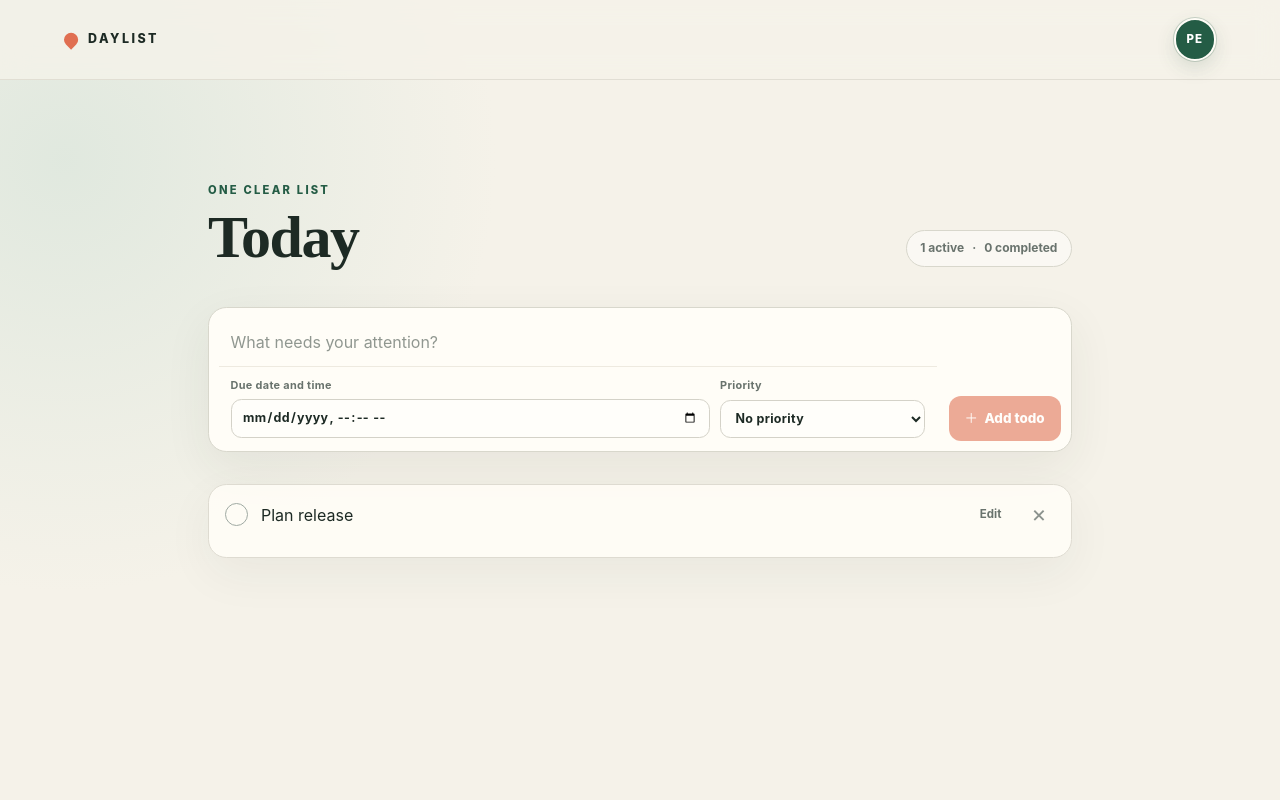
it: App › keeps the inline editor open with server field errors
The image size is (1280, 800).
Click the button with aria-label "Edit Plan release" at (991, 515), box [971,499,1010,530]
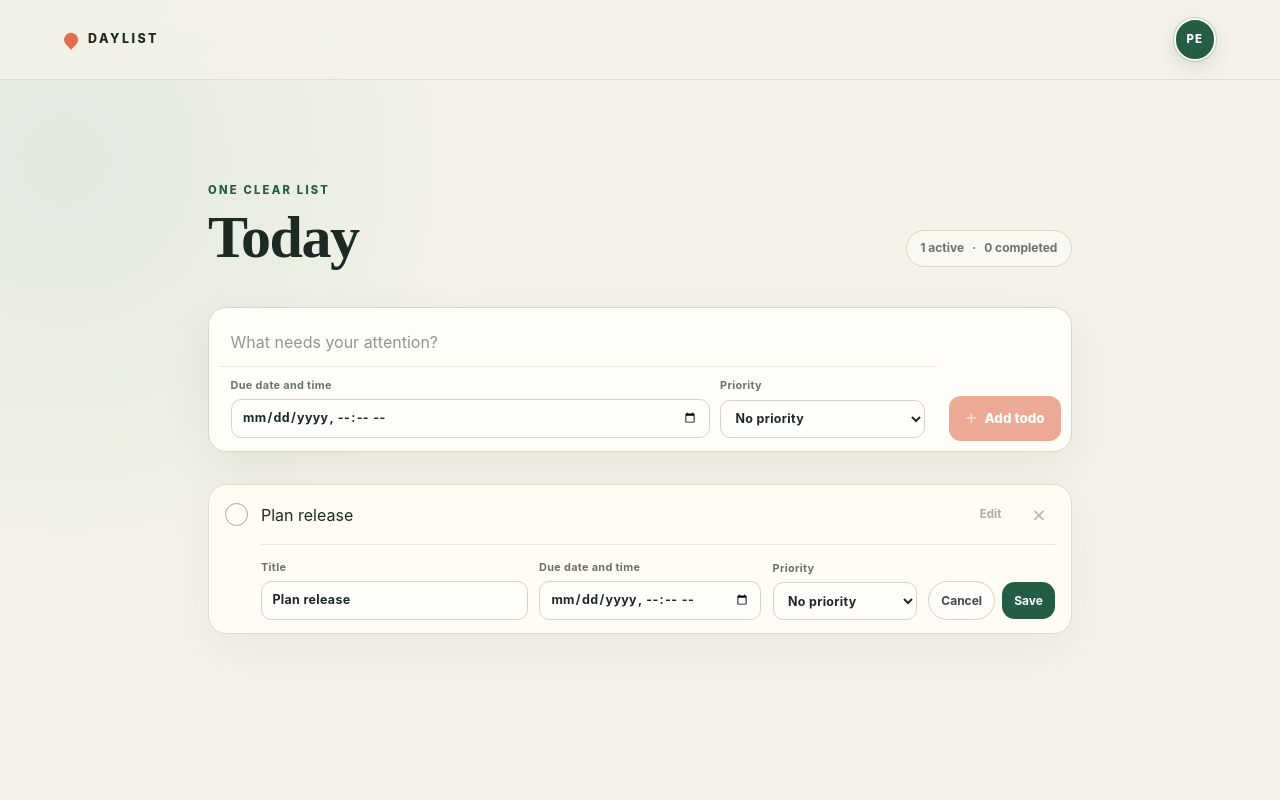
Click the button with aria-label "Save Plan release" at (1029, 601), box [1002,582,1055,619]
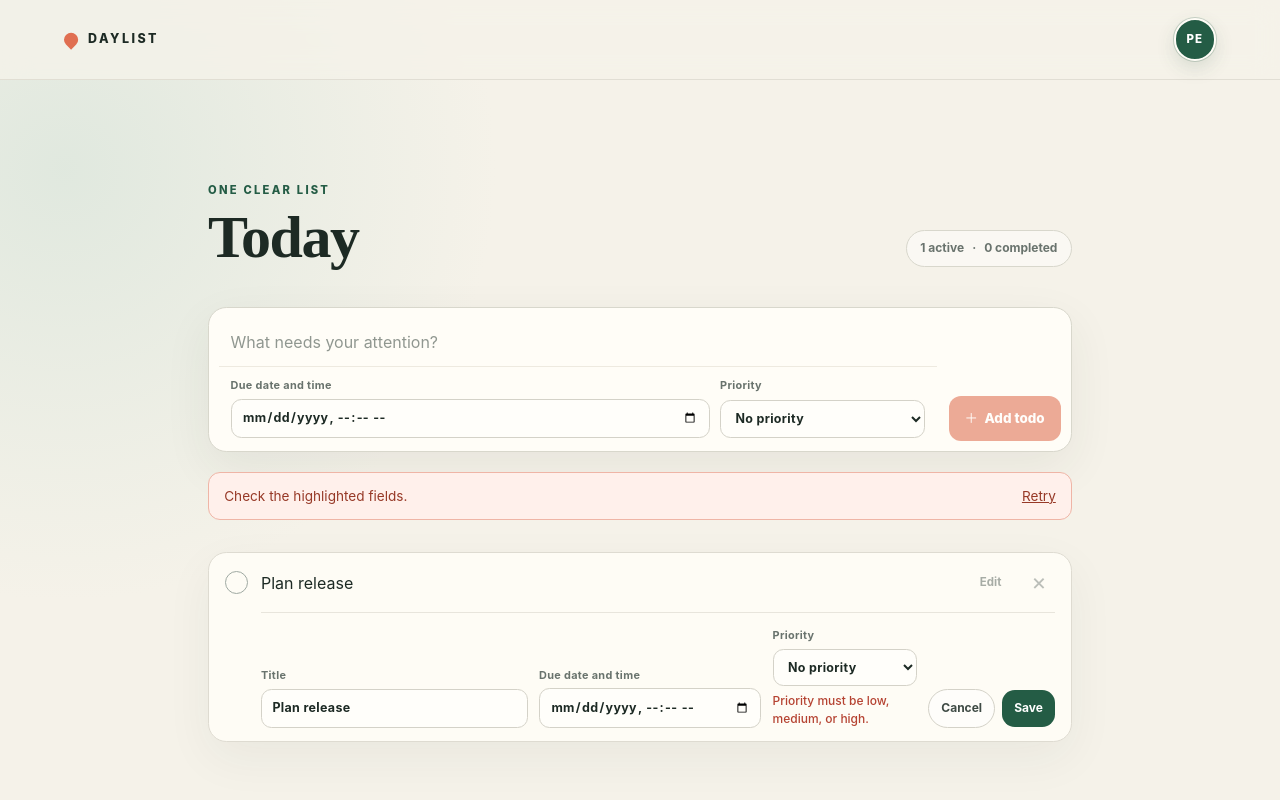
Expected: the field named "Edit title for Plan release" is shown, [261,688,528,728]
Expected: the text "Priority must be low, medium, or high." is shown, [772,693,889,726]
